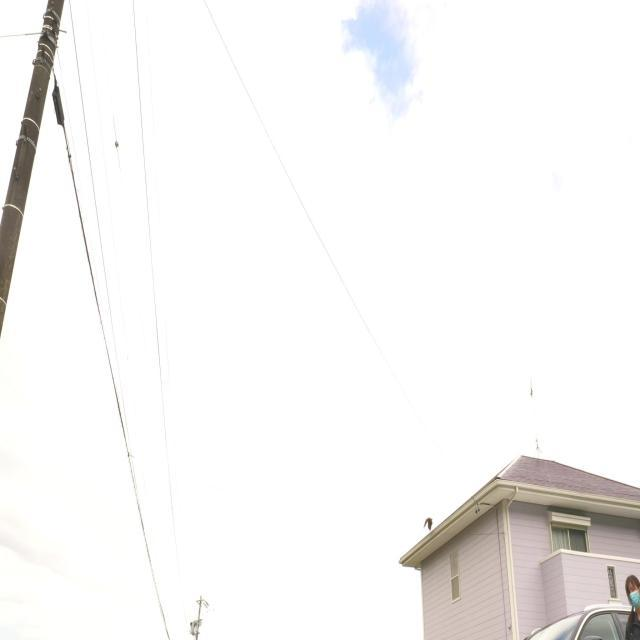Birds: (416, 510, 436, 536)
